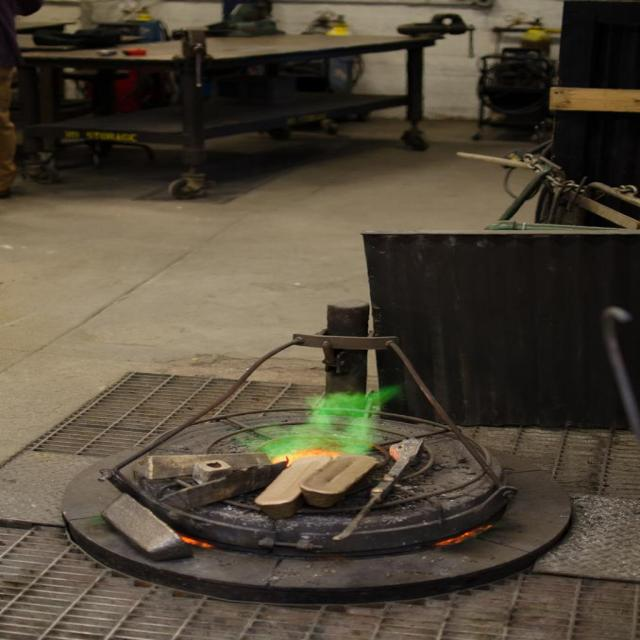table: (86, 28, 488, 163)
